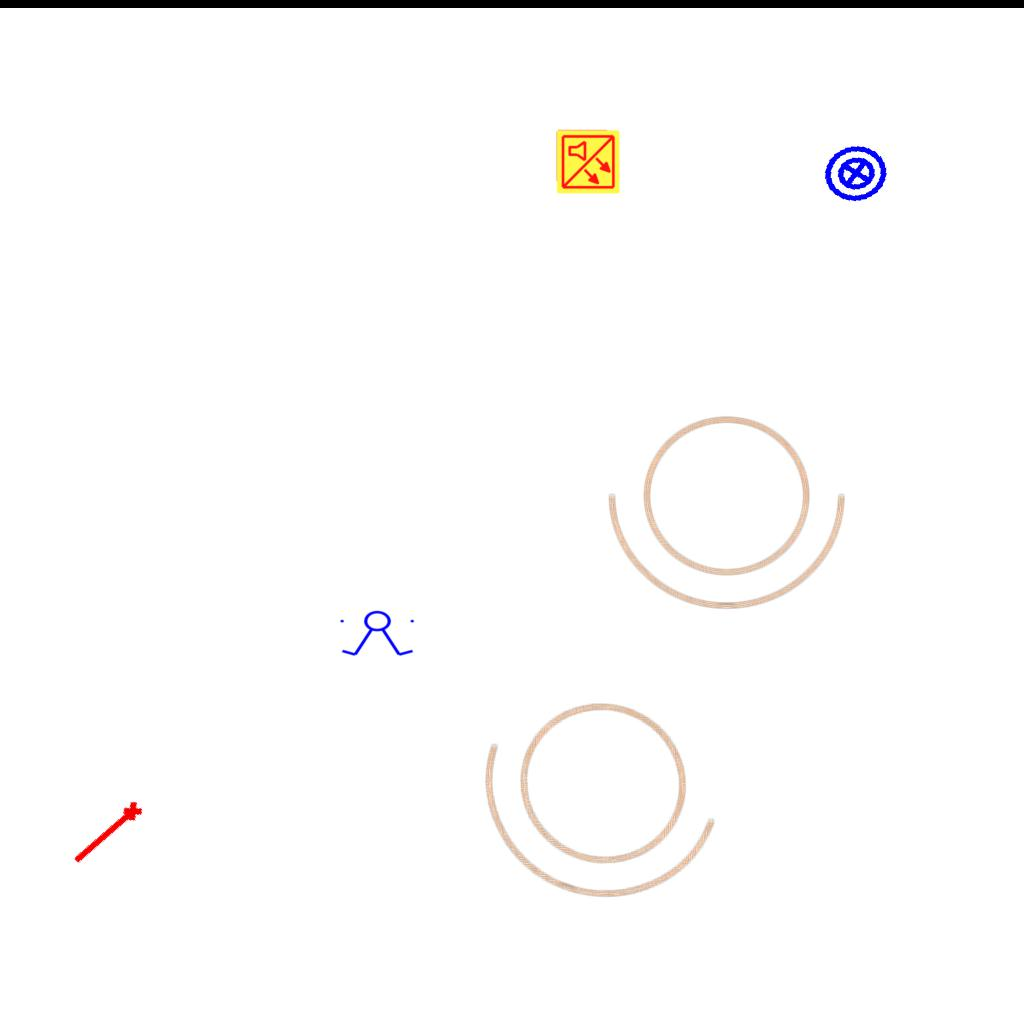ASR_Ansaugoeffnung: (67, 796, 149, 873)
OKW_Multisensormelder_(Kombination_optischer_Rauch-Kahlenmonoxid_Waerme-Melder): (555, 129, 621, 195)
Scheinwerfer_fuer_Alarmbeleuchtung: (444, 645, 768, 944), (601, 393, 865, 618)
Serienschalter: (336, 610, 420, 658)
Taster_beleuchtet: (817, 134, 895, 212)
